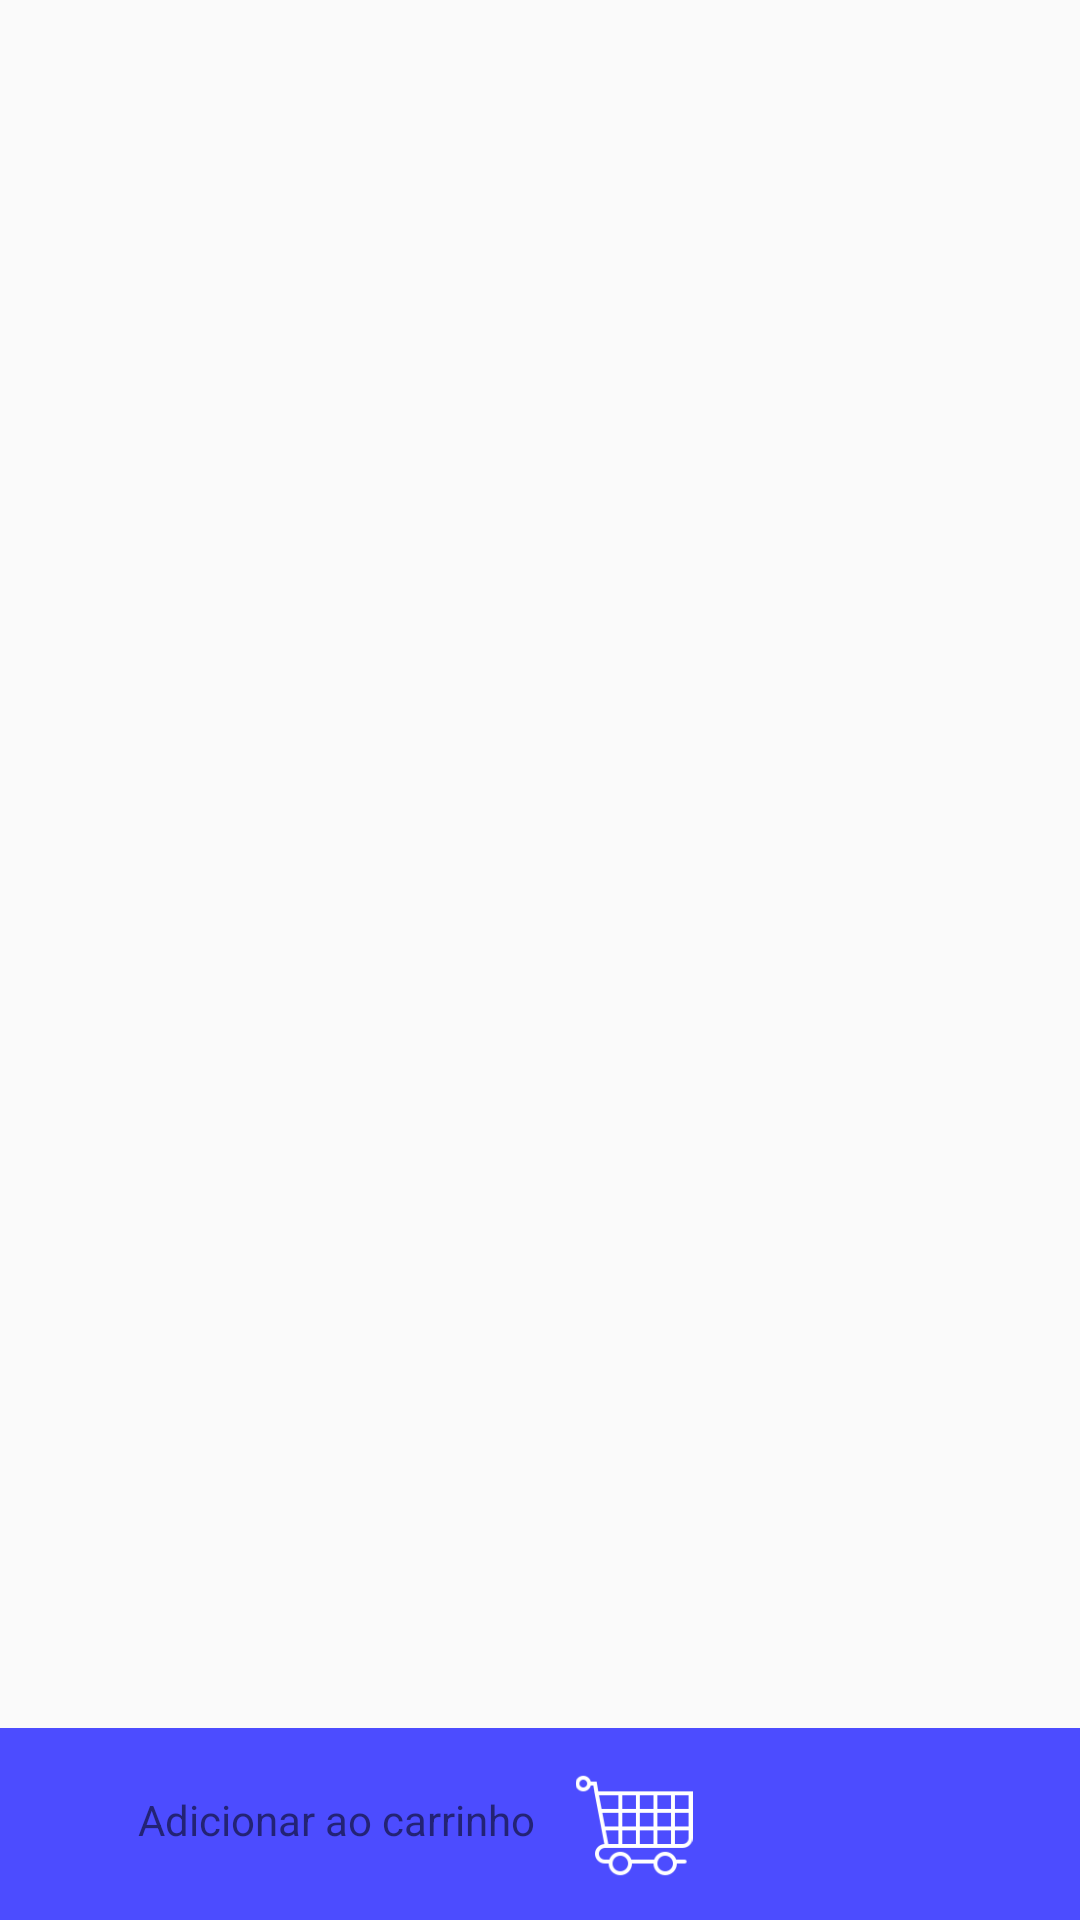

Named icons in this screenshot (1080w x 1920h) and their bounding boxes, (x1, y1, x2, y2):
cart: (576, 1775, 693, 1876)
